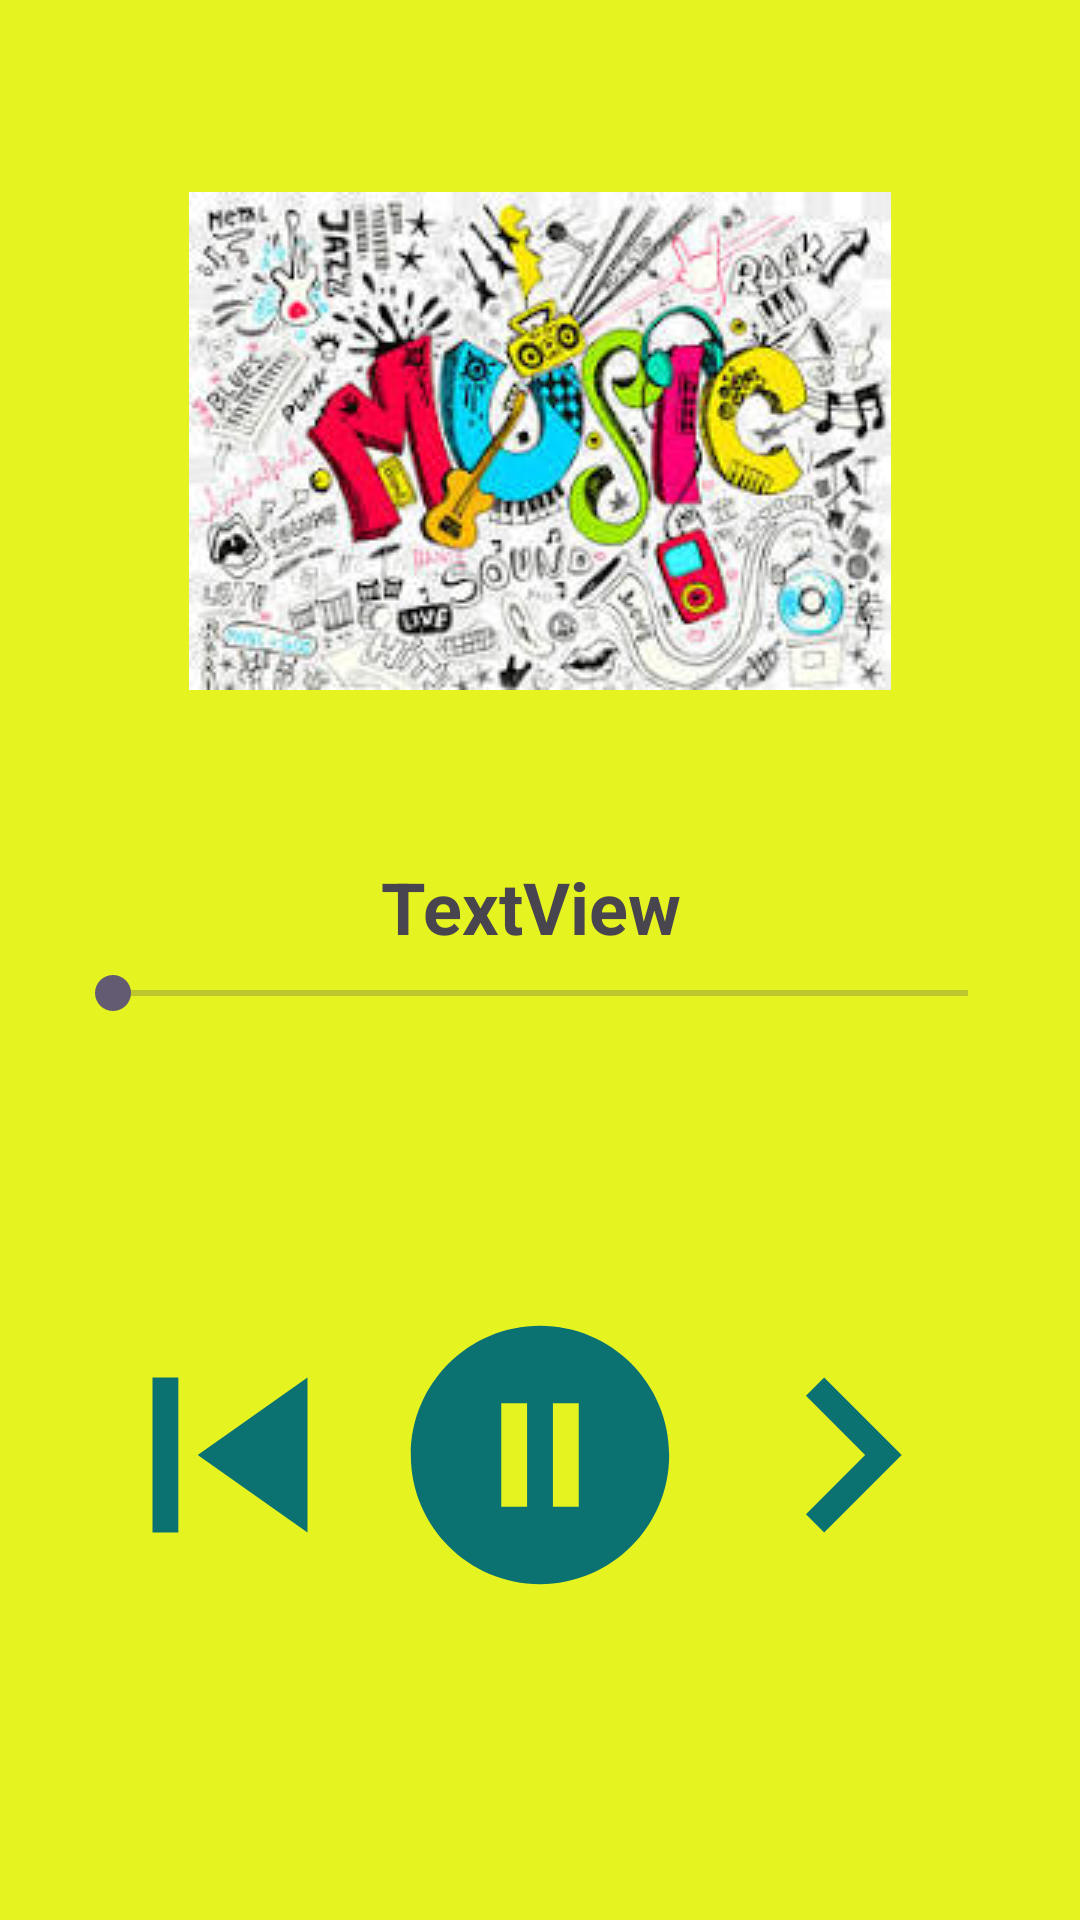

Icon bounding boxes for this 1080*1920 phone screenshot, format (x1, y1, x2, y2):
next: (806, 1377, 902, 1533)
pause: (410, 1325, 670, 1585)
previous: (152, 1377, 308, 1533)
